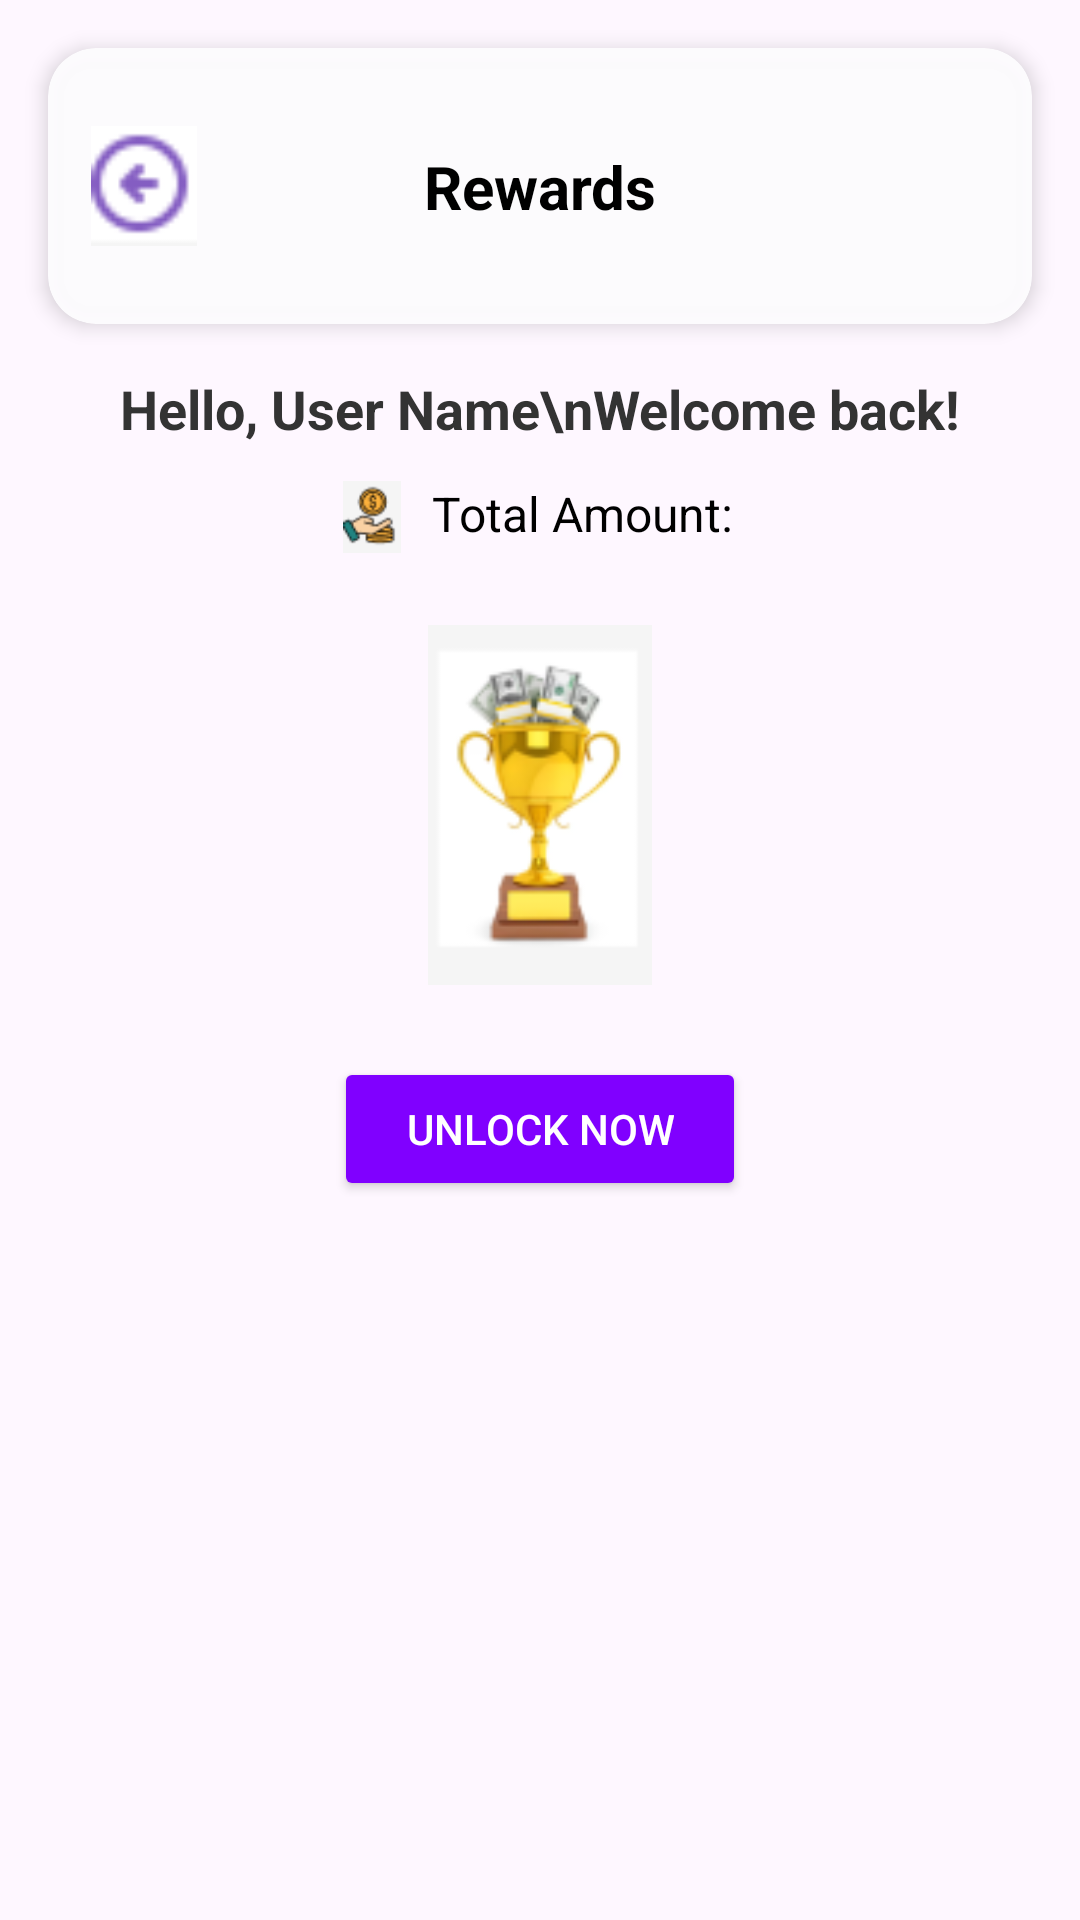

Icons on this 1080*1920 Android screen, each with the point to tap as point (x, y):
Coin Icon: point (369, 515)
Trophy: point (538, 804)
